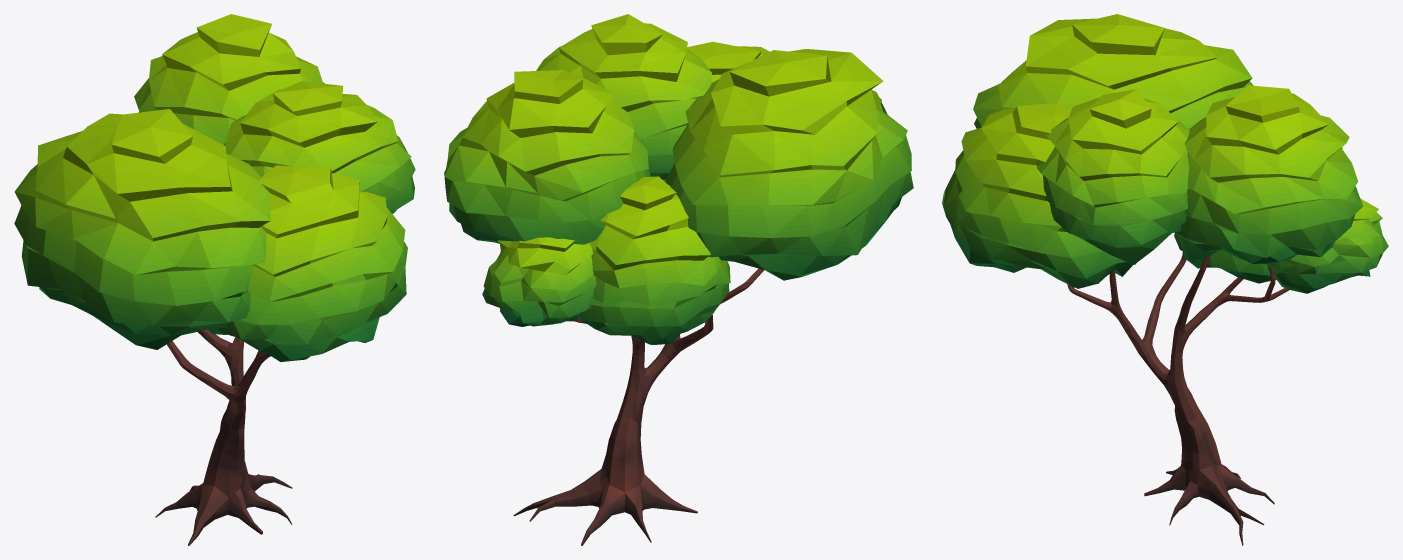
File: tree_savannah05_lush_mod_01.fbx
3 views of the same model, side by side, from view 1: azimuth 30°, elevation 25°; view 2: azimuth 150°, elevation 25°; view 3: azimuth 270°, elevation 25° (orthographic). The views are drawn at different scales.
Parts seen in each view (by area): view 1: leaves05, tree05; view 2: leaves05, tree05; view 3: leaves05, tree05.
Boxes of the visible parts, bbox=[...] form: leaves05: bbox=[14, 14, 415, 361]; tree05: bbox=[155, 329, 292, 545]; leaves05: bbox=[444, 14, 913, 344]; tree05: bbox=[513, 268, 763, 545]; leaves05: bbox=[942, 14, 1388, 293]; tree05: bbox=[1067, 251, 1289, 545].
Size of the model in its own units: 6.45 by 7.48 by 7.91.
